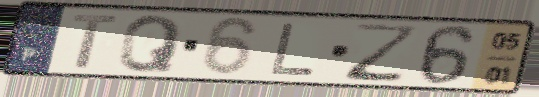6: (197, 15, 264, 80), (416, 23, 477, 87)
L: (267, 21, 319, 78)
Q: (116, 14, 187, 75)
T: (70, 13, 121, 71)
Z: (343, 21, 422, 85)
